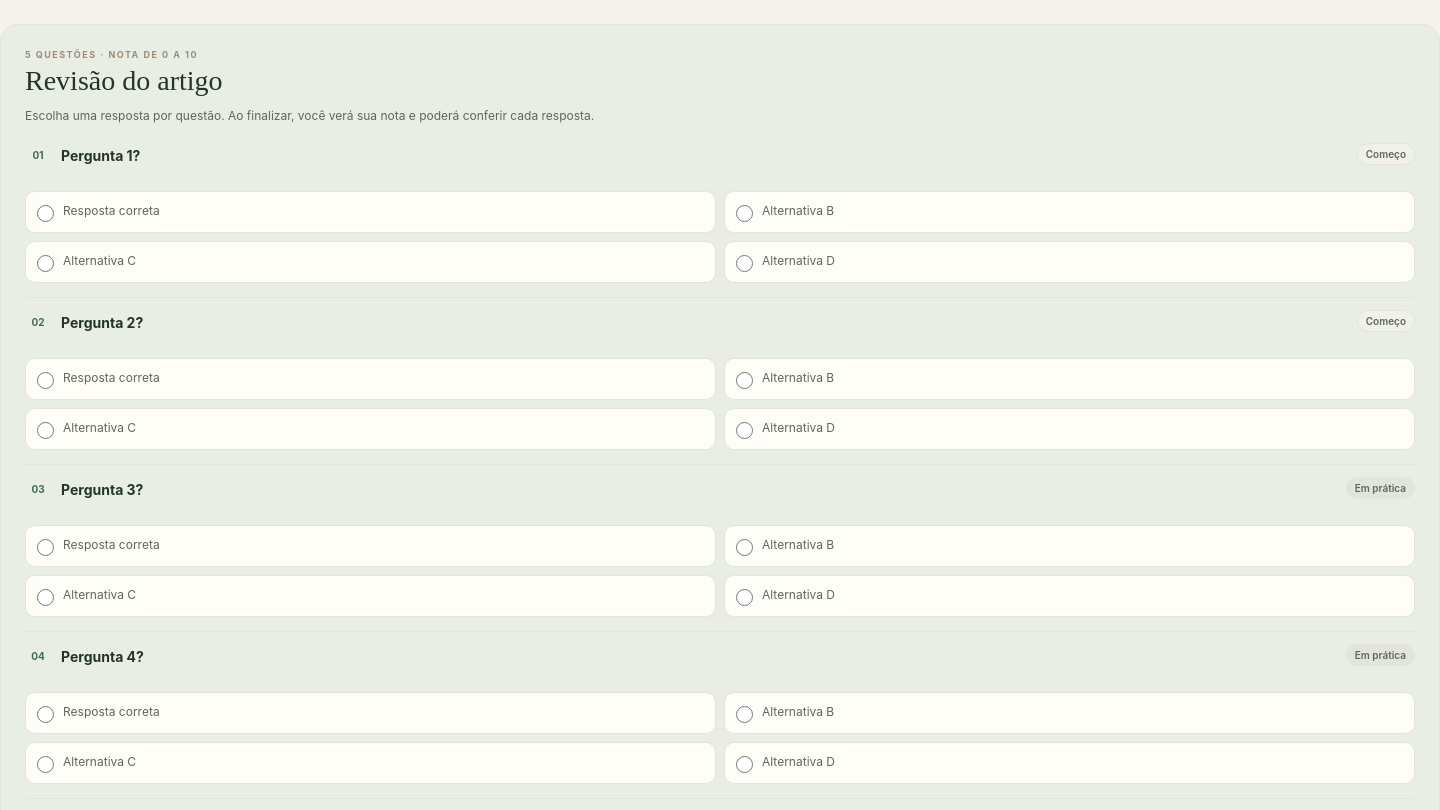
KnowledgeAssessment › impede o envio incompleto e calcula nota, feedback e melhor resultado
Step 1. Click the radio button labelled "Resposta correta" below "Pergunta 1?" → x=46, y=214, box [37, 205, 54, 222]
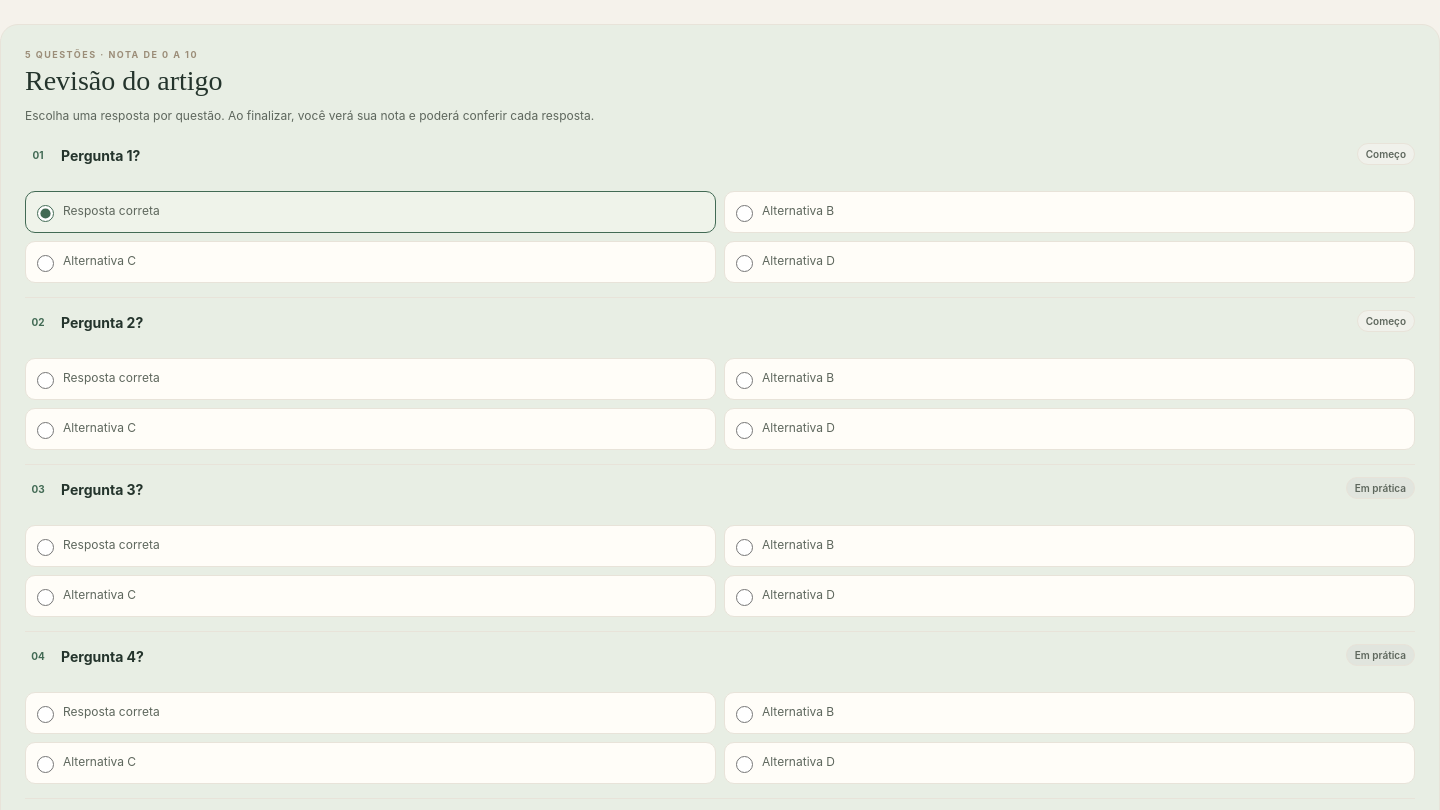
Step 2. Click the radio button labelled "Resposta correta" below "Pergunta 2?" → x=46, y=381, box [37, 372, 54, 389]
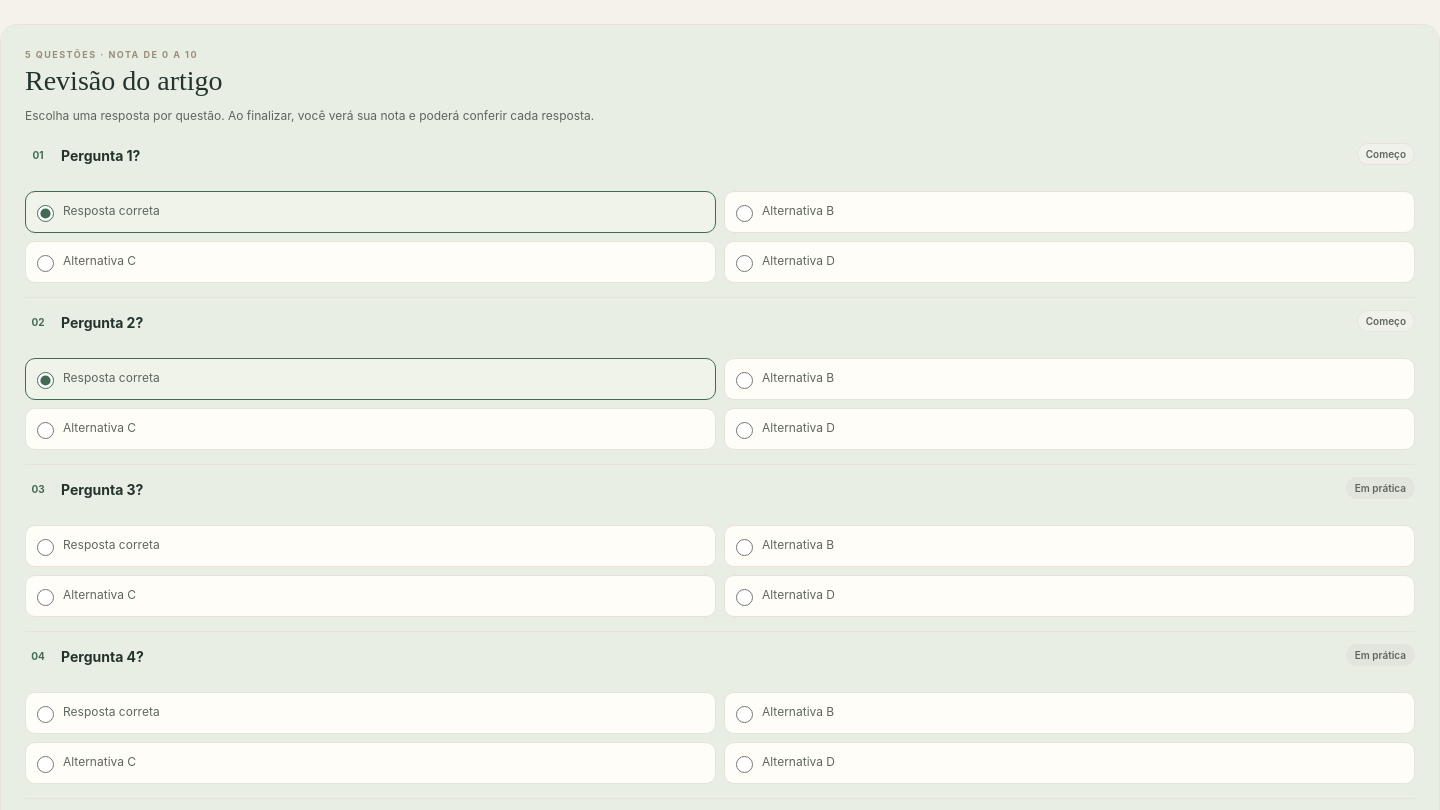
Step 3. Click the radio button labelled "Resposta correta" below "Pergunta 3?" → x=46, y=548, box [37, 539, 54, 556]
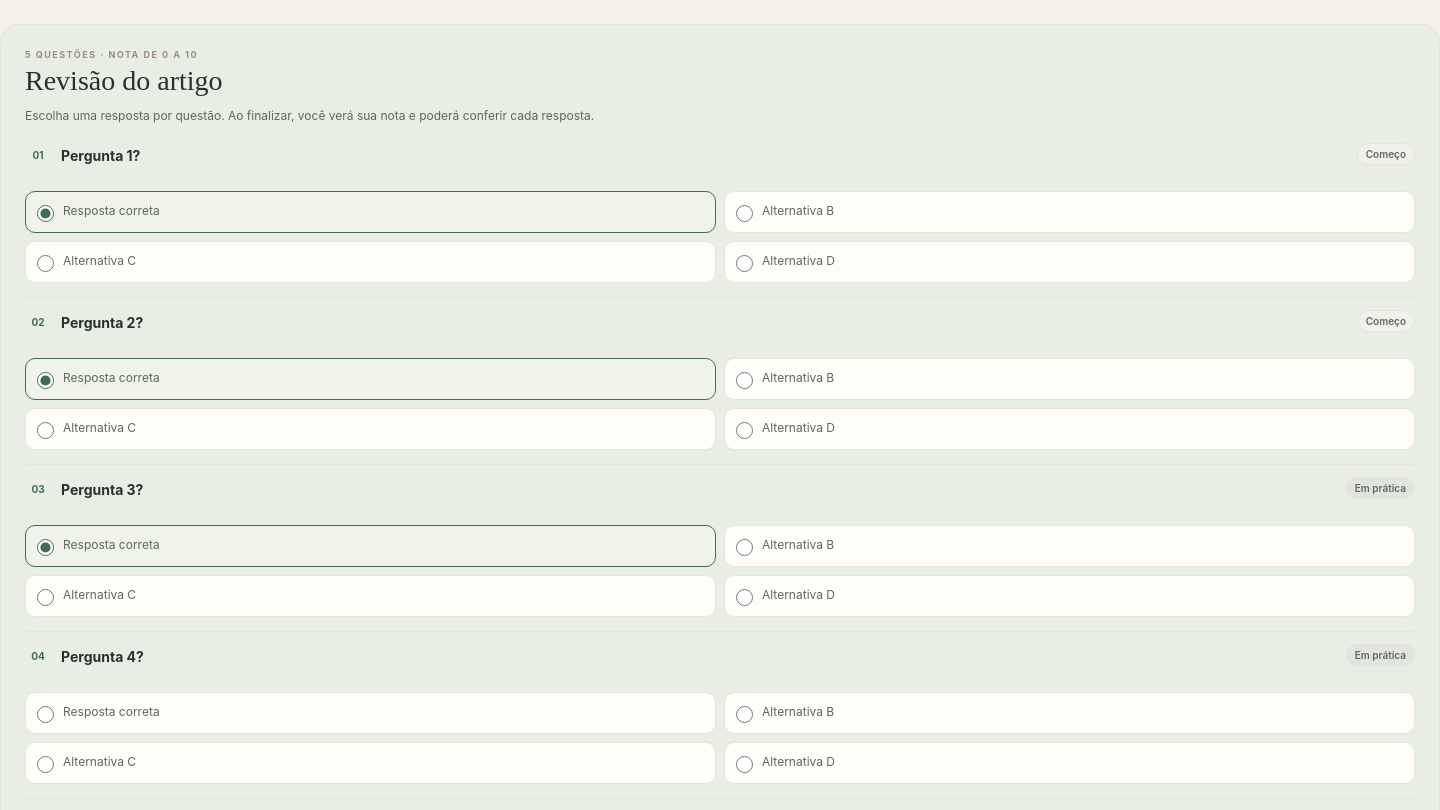
Step 4. Click the radio button labelled "Resposta correta" below "Pergunta 4?" → x=46, y=715, box [37, 706, 54, 723]
(page scrolled)
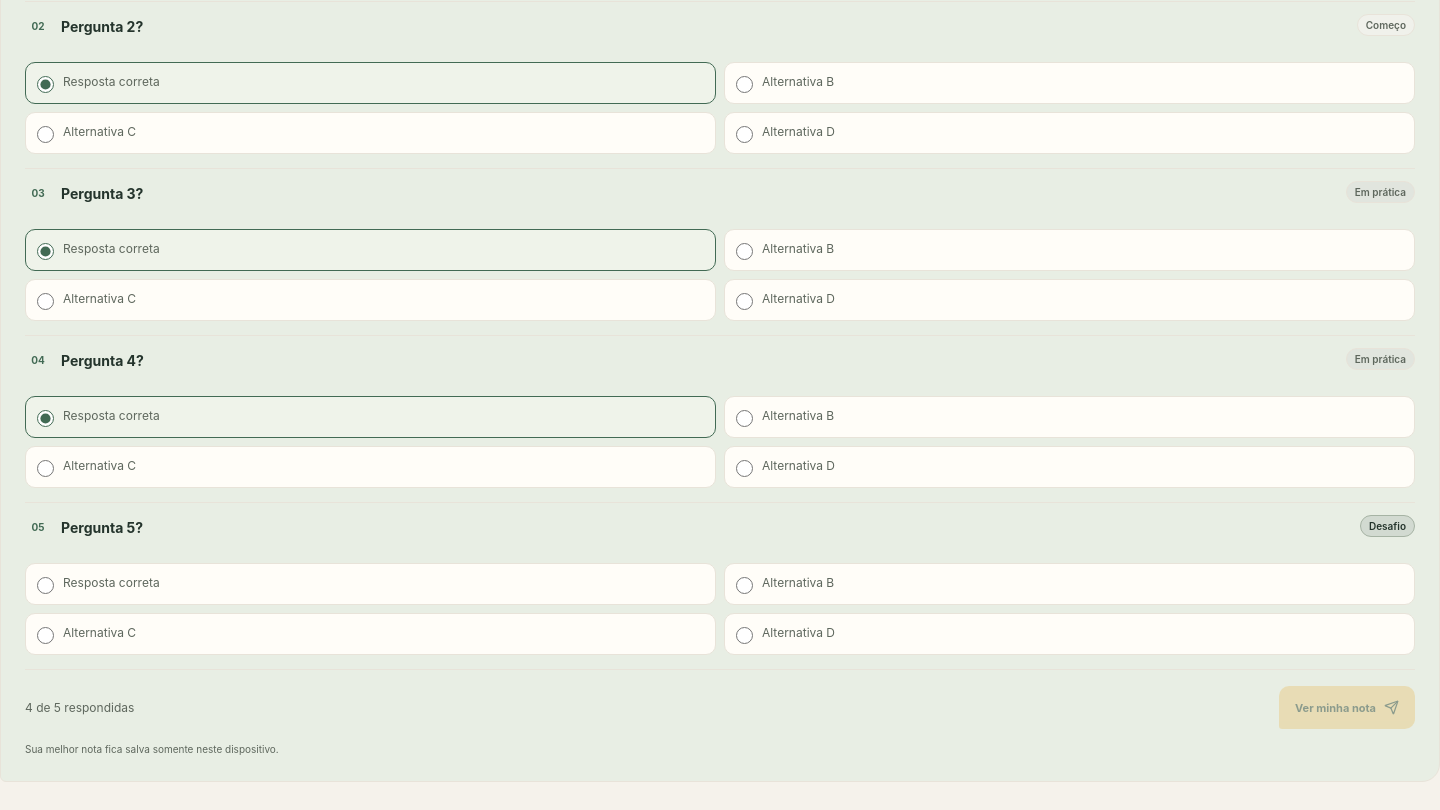
Step 5. Click the radio button labelled "Resposta correta" below "Pergunta 5?" → x=46, y=586, box [37, 577, 54, 594]
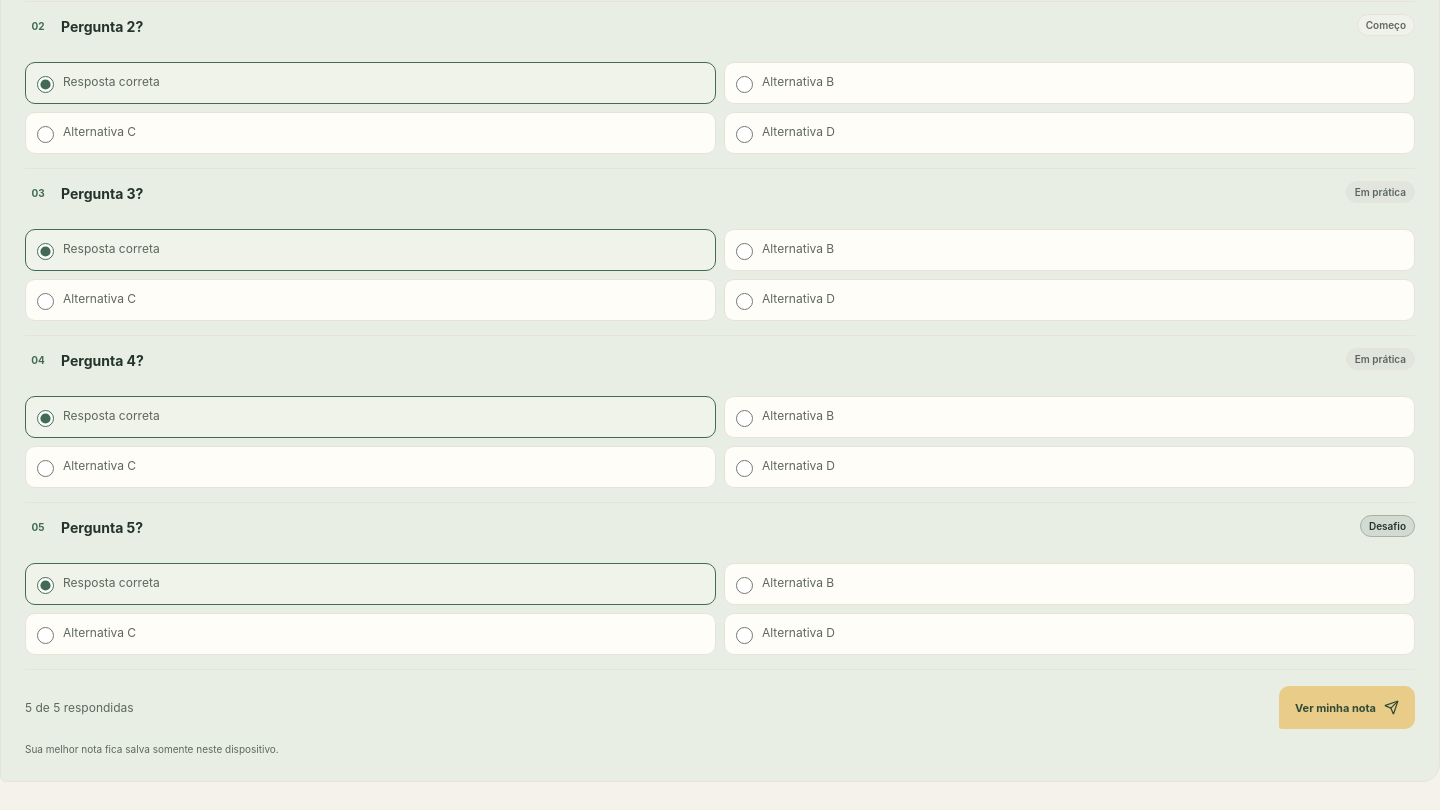
expect the button "Ver minha nota" is enabled: met
Step 6. Click the button "Ver minha nota" → x=1347, y=708, box [1279, 686, 1415, 729]
(page scrolled)
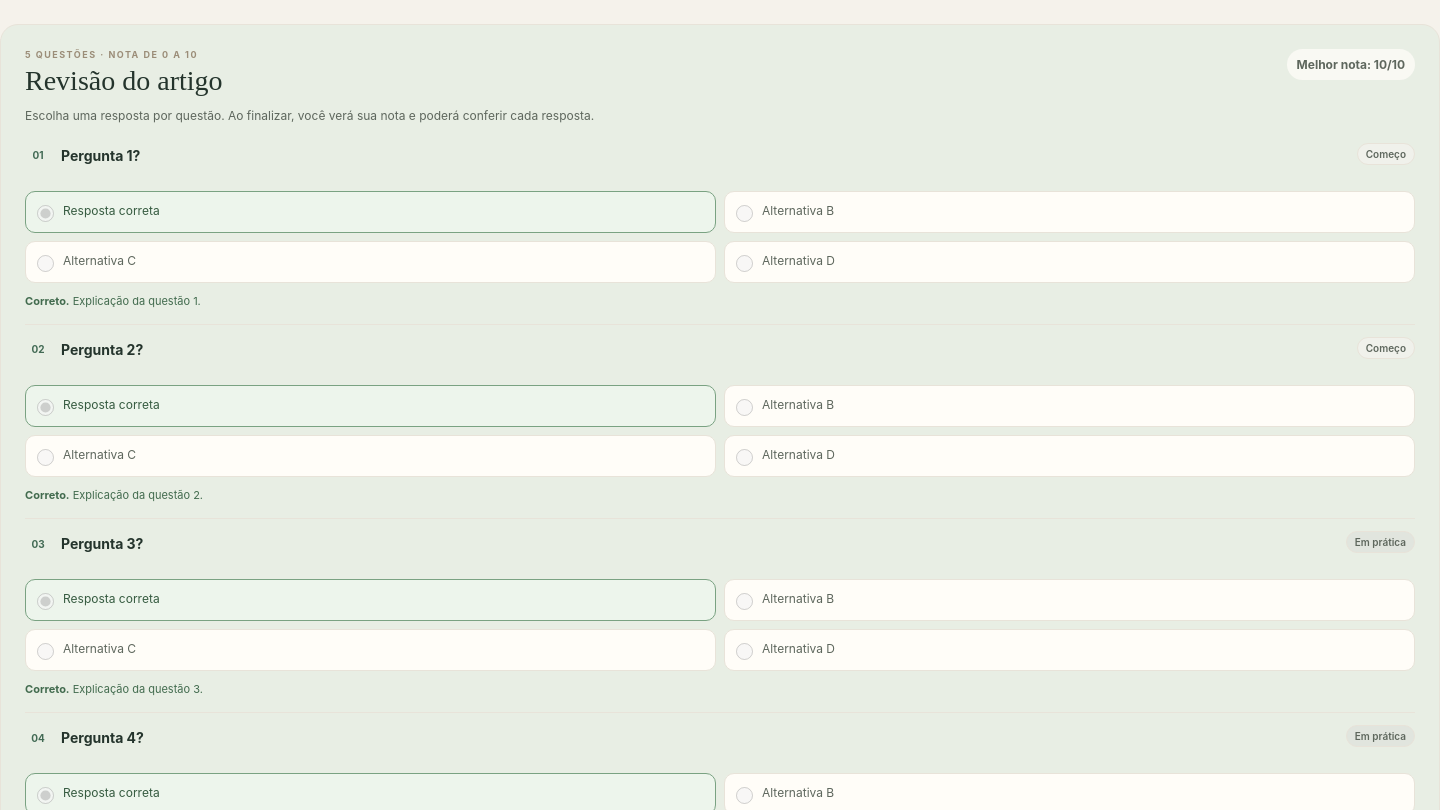
expect the text "Correto." is shown 5 times: met
expect the text "Melhor nota: 10/10" is shown: met, box [1286, 49, 1415, 80]
